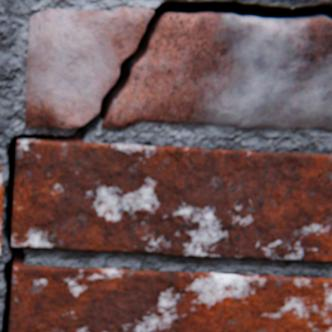brick: (11, 140, 331, 261), (9, 264, 331, 331), (0, 165, 3, 255)
broken_brick: (100, 14, 331, 130), (25, 8, 152, 129)
crack: (1, 0, 331, 331)
